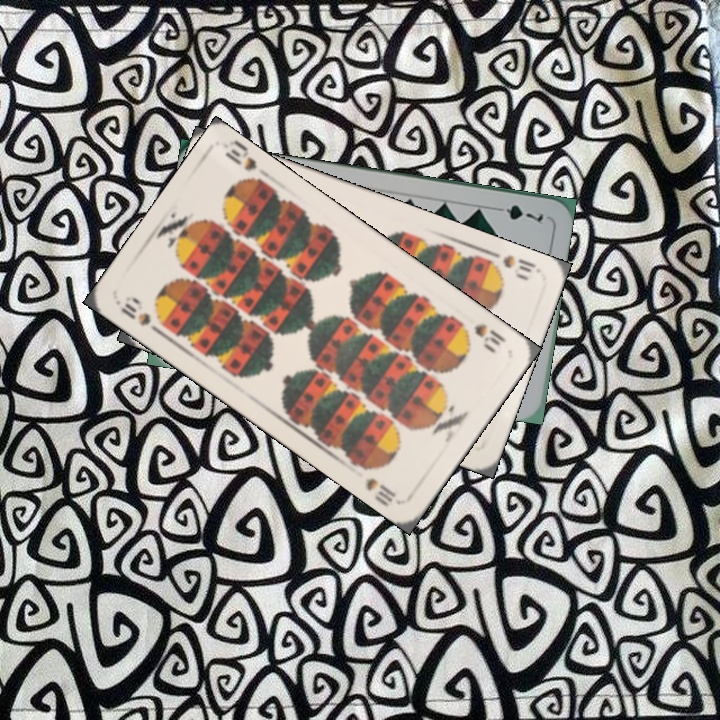G7: (489, 200, 546, 225)
S10: (455, 317, 509, 356), (482, 247, 542, 276), (117, 292, 154, 329)
